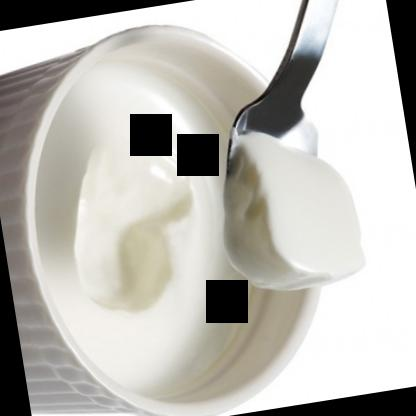yogurt: (0, 9, 362, 415)
